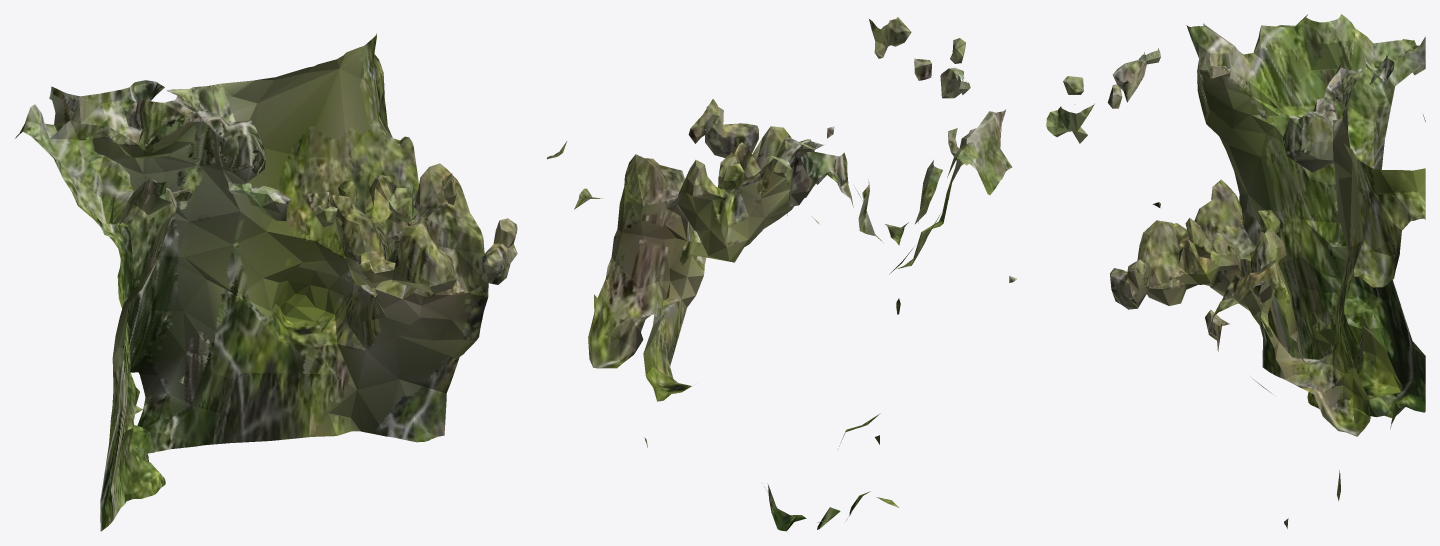
3 renders of one model, left to right at view 1: azimuth 30°, elevation 25°; view 2: azimuth 150°, elevation 25°; view 3: azimuth 270°, elevation 25°, orthographic. The views are drawn at different scales.
Size of the model in its own units: 2.95 by 2.95 by 2.87.
Materials: 5 (5 with a texture image).
